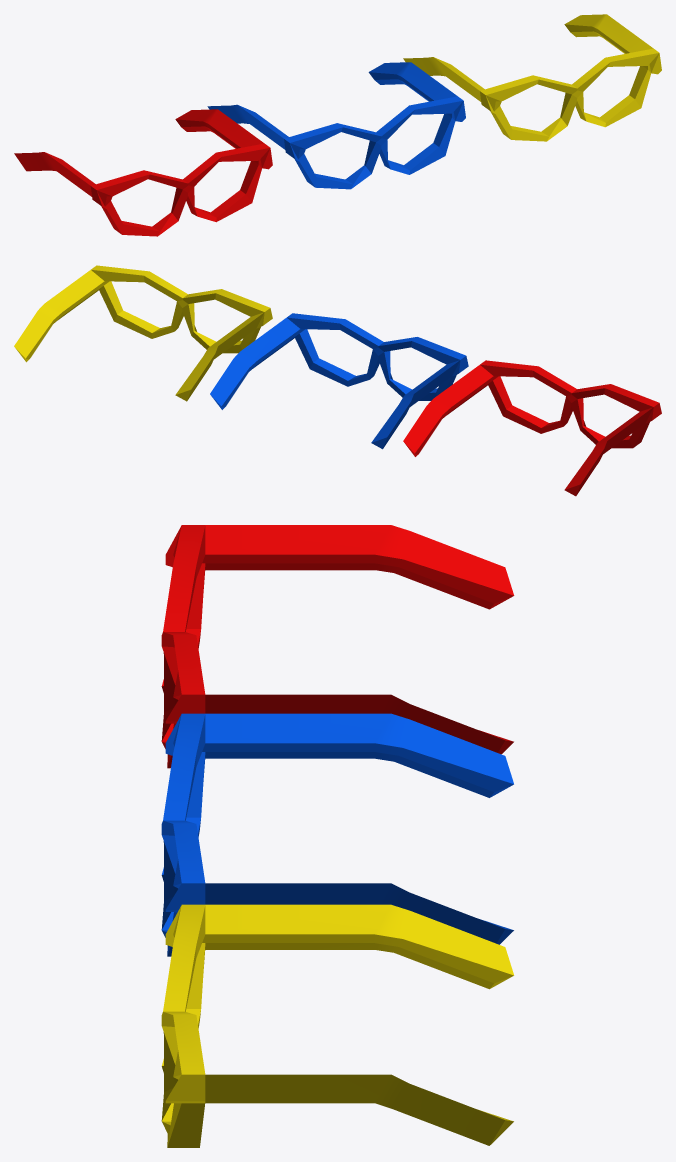
File: Glasses.fbx
3 views of the same model, one above another, from view 1: azimuth 30°, elevation 25°; view 2: azimuth 150°, elevation 25°; view 3: azimuth 270°, elevation 25° (orthographic). The views are drawn at different scales.
Visible parts, largest first — view 1: Glasses1, Glasses3, Glasses2; view 2: Glasses1, Glasses3, Glasses2; view 3: Glasses3, Glasses2, Glasses1.
Part boxes in pixels (x1,y1,x2,y2): Glasses1: [14, 109, 272, 236]; Glasses3: [403, 14, 661, 141]; Glasses2: [207, 62, 465, 189]; Glasses1: [403, 360, 661, 496]; Glasses3: [14, 265, 272, 401]; Glasses2: [210, 313, 468, 449]; Glasses3: [161, 904, 514, 1147]; Glasses2: [161, 713, 513, 956]; Glasses1: [161, 525, 514, 768].
Bounding box in the file's own units: 56.89 × 6.02 × 15.33.
